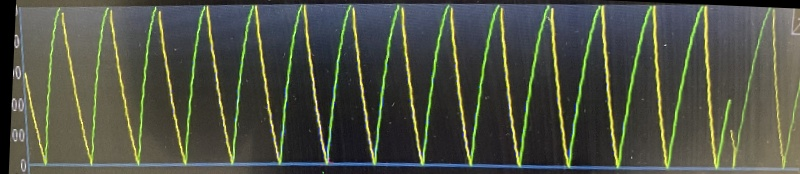normal_volume: (32, 1, 730, 169)
